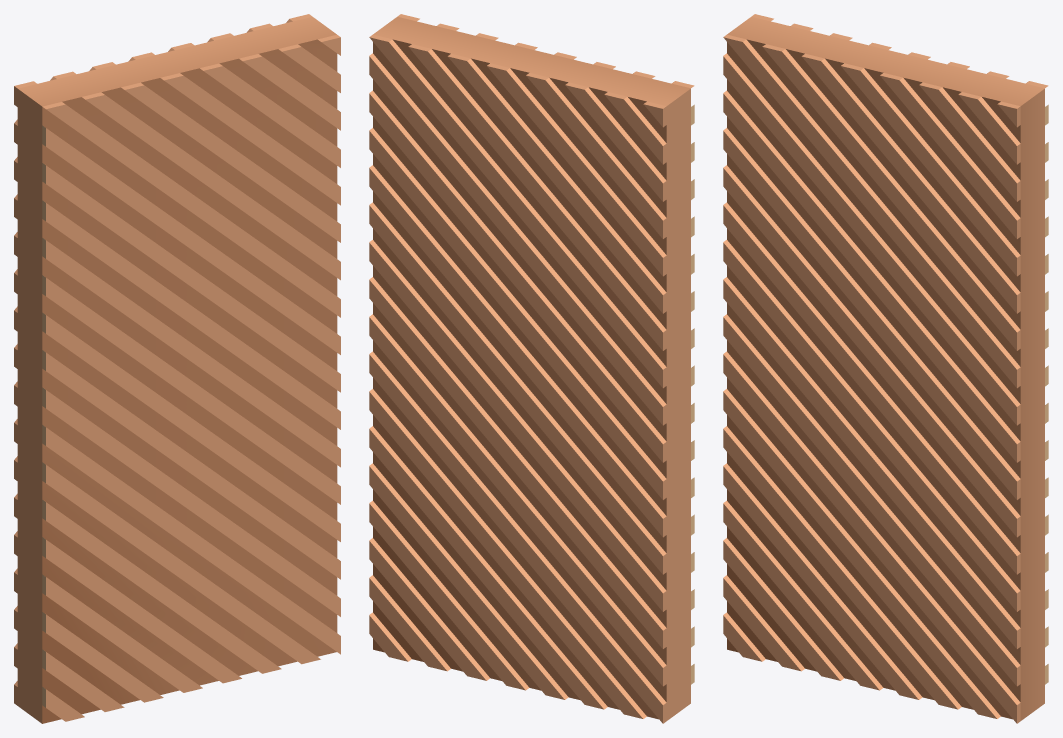
Rendered from DiagonalBoardWall.glb.
3 views of the same model, side by side, from view 1: azimuth 30°, elevation 25°; view 2: azimuth 150°, elevation 25°; view 3: azimuth 330°, elevation 25° (orthographic).
Visible parts, largest first — view 1: wall_diagonalBoard; view 2: wall_diagonalBoard; view 3: wall_diagonalBoard.
Boxes of the visible parts, left/top/right/bottom form: wall_diagonalBoard: left=14, top=14, right=340, bottom=723; wall_diagonalBoard: left=369, top=14, right=694, bottom=723; wall_diagonalBoard: left=723, top=14, right=1048, bottom=723.
Size of what is drawn, in the model's own units: 2 by 4 by 0.3745.
1 material, 1 textured.
